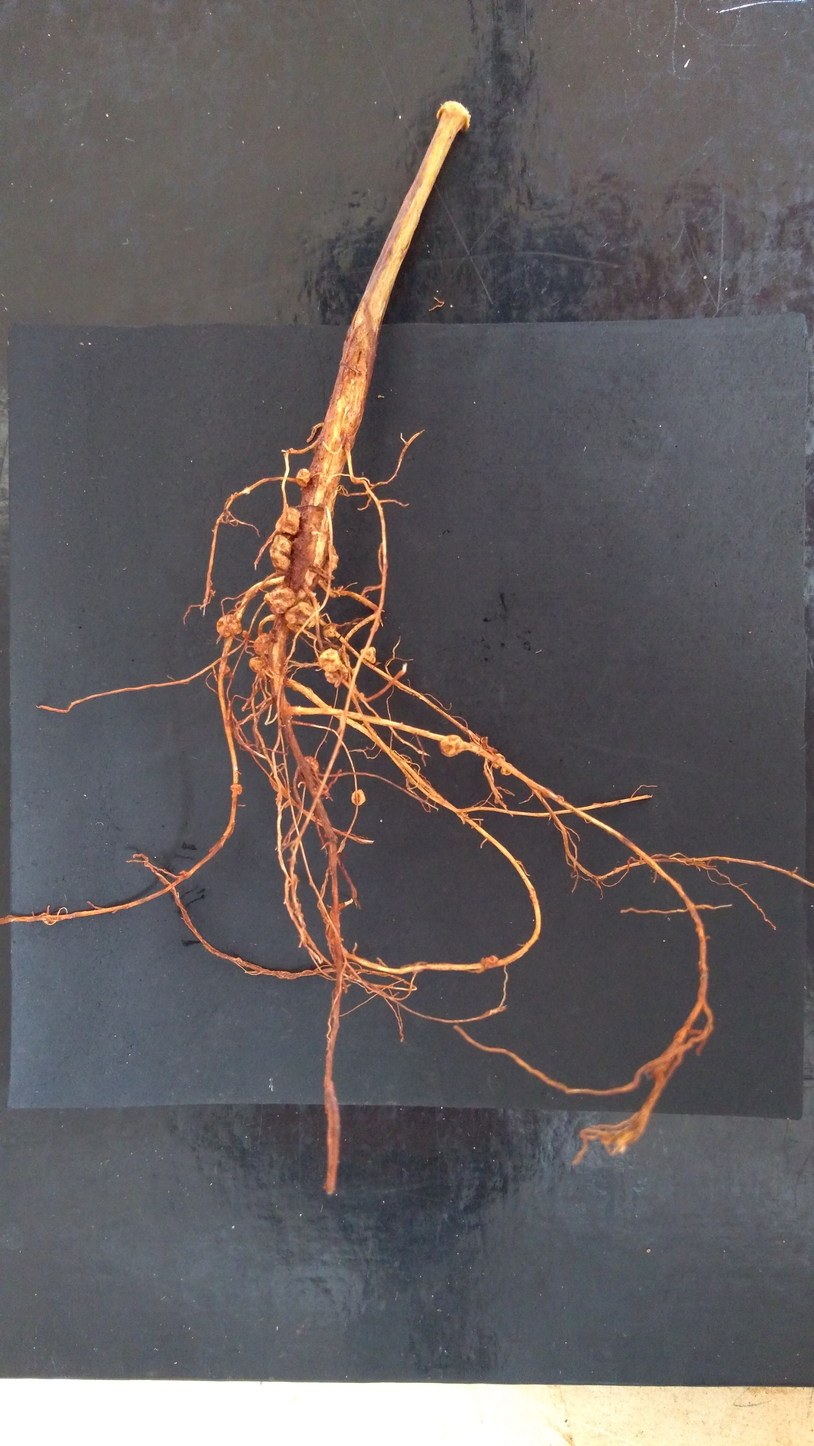nodule: (263, 583, 297, 615), (319, 648, 349, 684), (284, 602, 316, 632), (269, 534, 292, 572), (275, 507, 301, 535), (321, 544, 338, 581), (299, 756, 318, 788), (216, 615, 242, 637), (440, 735, 464, 757), (249, 656, 270, 678), (253, 633, 271, 655), (295, 468, 310, 487), (360, 647, 376, 664), (480, 955, 498, 969), (351, 789, 365, 806), (492, 753, 506, 769), (323, 623, 337, 637), (541, 786, 553, 798), (501, 762, 512, 775), (231, 784, 242, 795), (298, 588, 306, 600), (351, 477, 361, 485), (242, 630, 251, 638), (179, 871, 189, 878), (223, 665, 230, 674), (351, 668, 356, 675), (228, 672, 233, 678)
